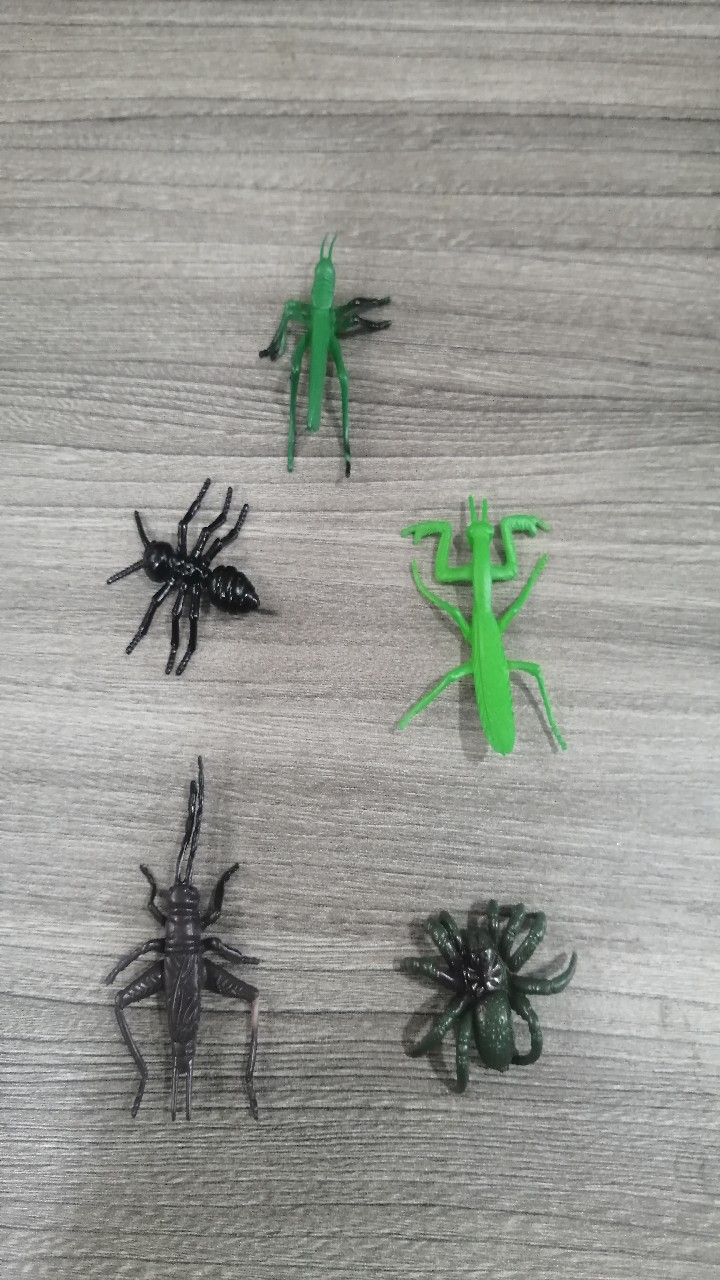intruso: (94, 740, 292, 1155), (378, 472, 609, 809), (391, 846, 618, 1140), (100, 443, 304, 702), (235, 203, 404, 489)
